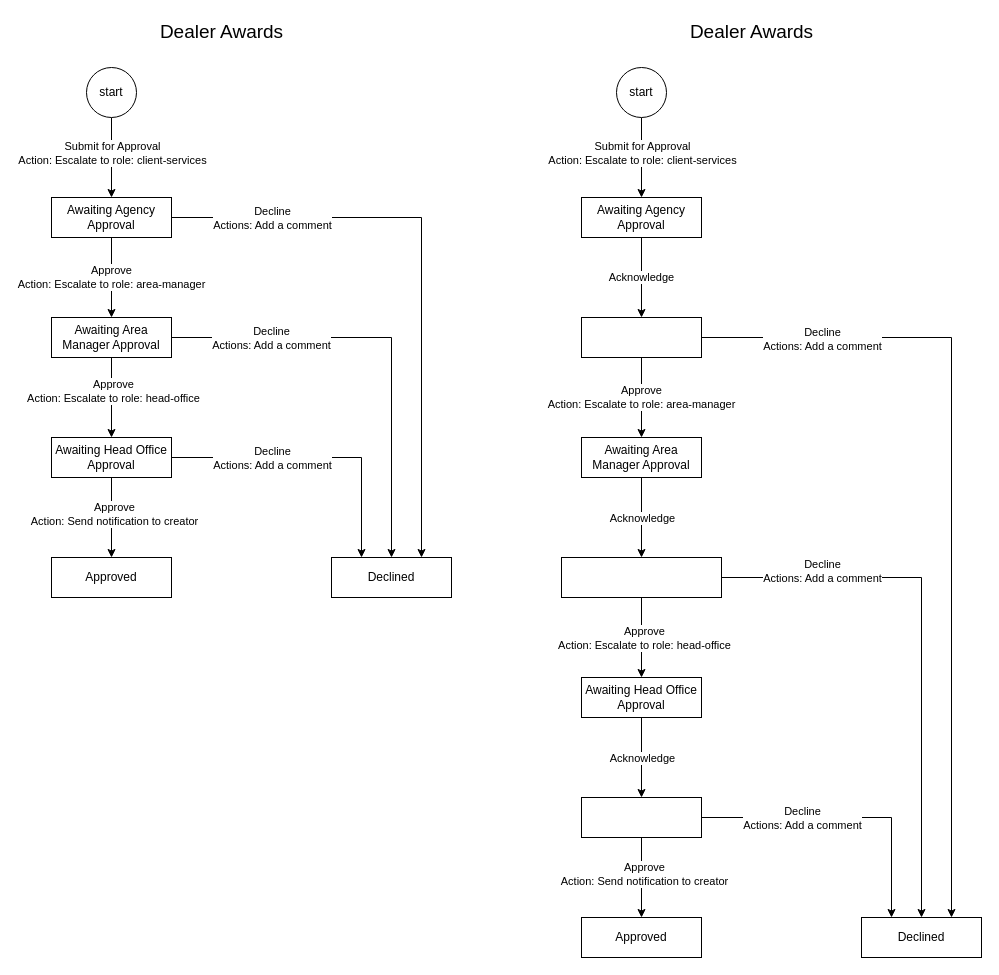
Image size: 999x975. Some labels were removed from this diagram. The centre of each missing label's shape, as x and y in pixels:
"Agency Approval In Progress" belongs at (x=641, y=337).
"Area Management Approval In Progress" belongs at (x=641, y=577).
"Head Office Approval In Progress" belongs at (x=641, y=817).
